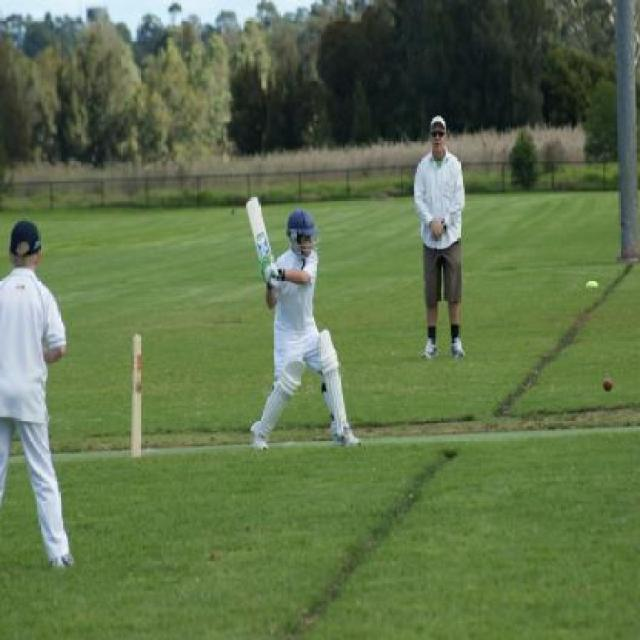-: (588, 356, 619, 415)
